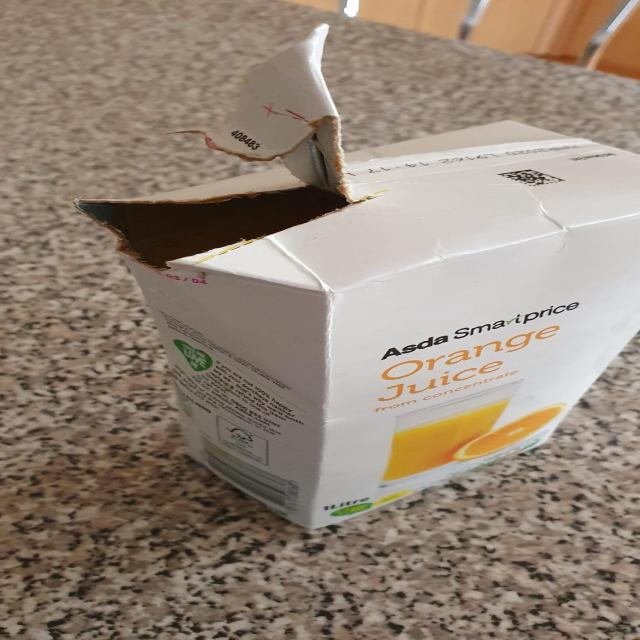cardboard: (47, 21, 640, 532)
